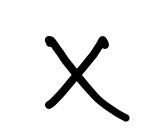mult: (42, 34, 130, 123)
